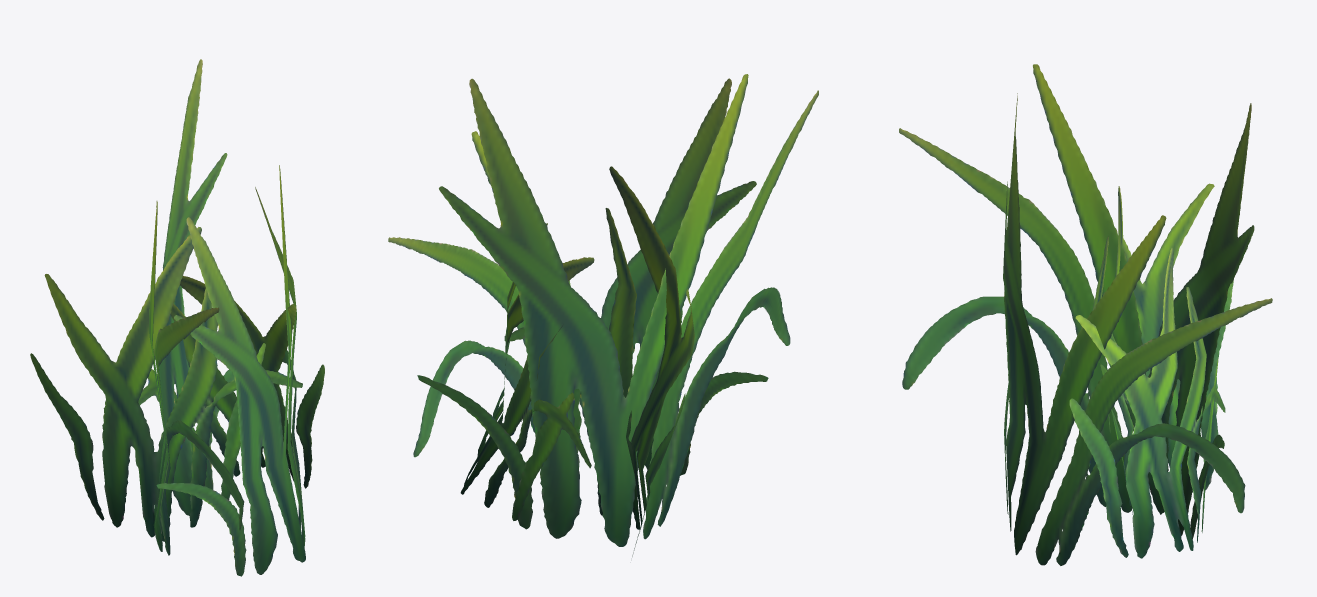
Rendered from capim_praia.glb.
3 renders of one model, left to right at view 1: azimuth 30°, elevation 25°; view 2: azimuth 150°, elevation 25°; view 3: azimuth 270°, elevation 25°, orthographic. The views are drawn at different scales.
Visible parts, largest first — view 1: capim_praia; view 2: capim_praia; view 3: capim_praia.
Boxes of the visible parts, bbox=[...] form: capim_praia: bbox=[30, 59, 324, 576]; capim_praia: bbox=[388, 74, 818, 556]; capim_praia: bbox=[899, 64, 1272, 565].
Size of the model in its own units: 6.58 by 10 by 8.05.
Materials: 1 (1 with a texture image).
